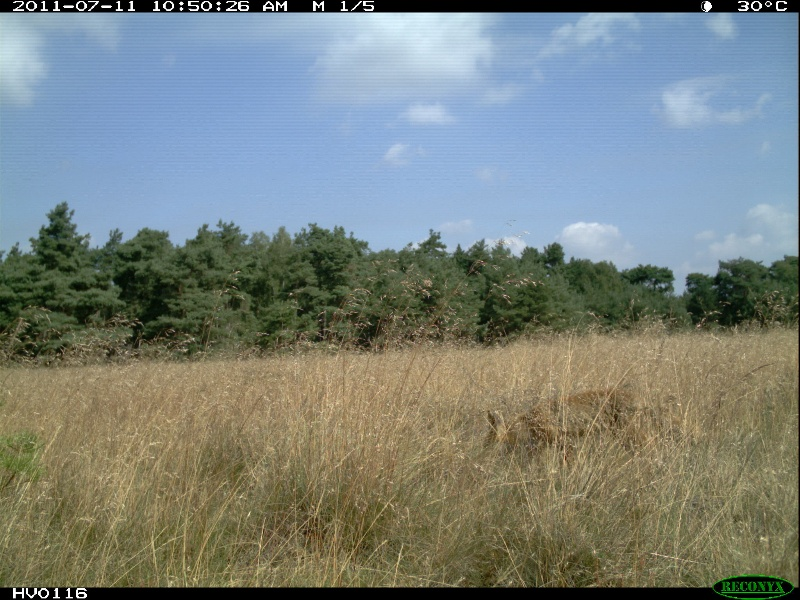fox: (475, 381, 683, 482)
